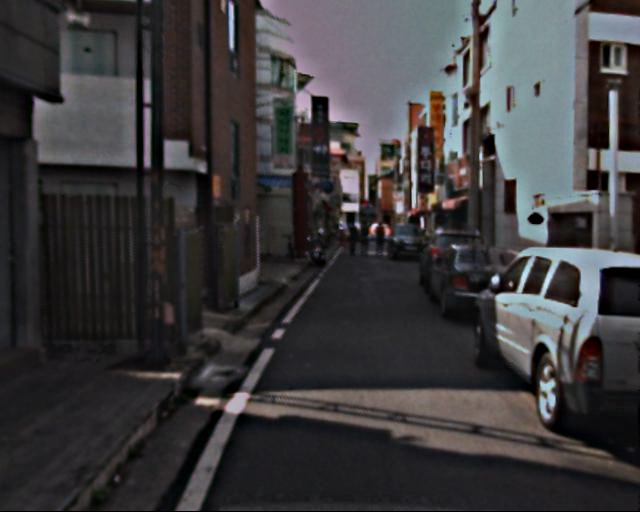person: (372, 218, 388, 258), (345, 223, 359, 258), (359, 222, 373, 257)
